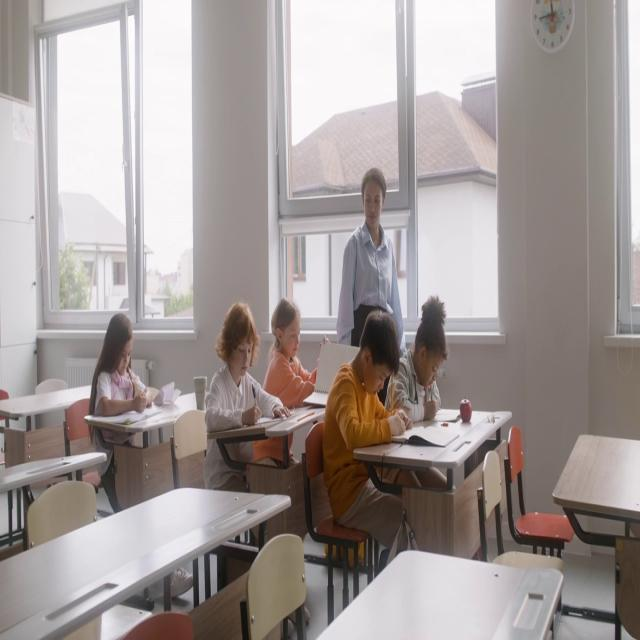turning: (390, 295, 449, 424)
writing: (321, 311, 421, 576), (202, 302, 286, 496), (90, 313, 158, 472), (261, 299, 323, 467)
